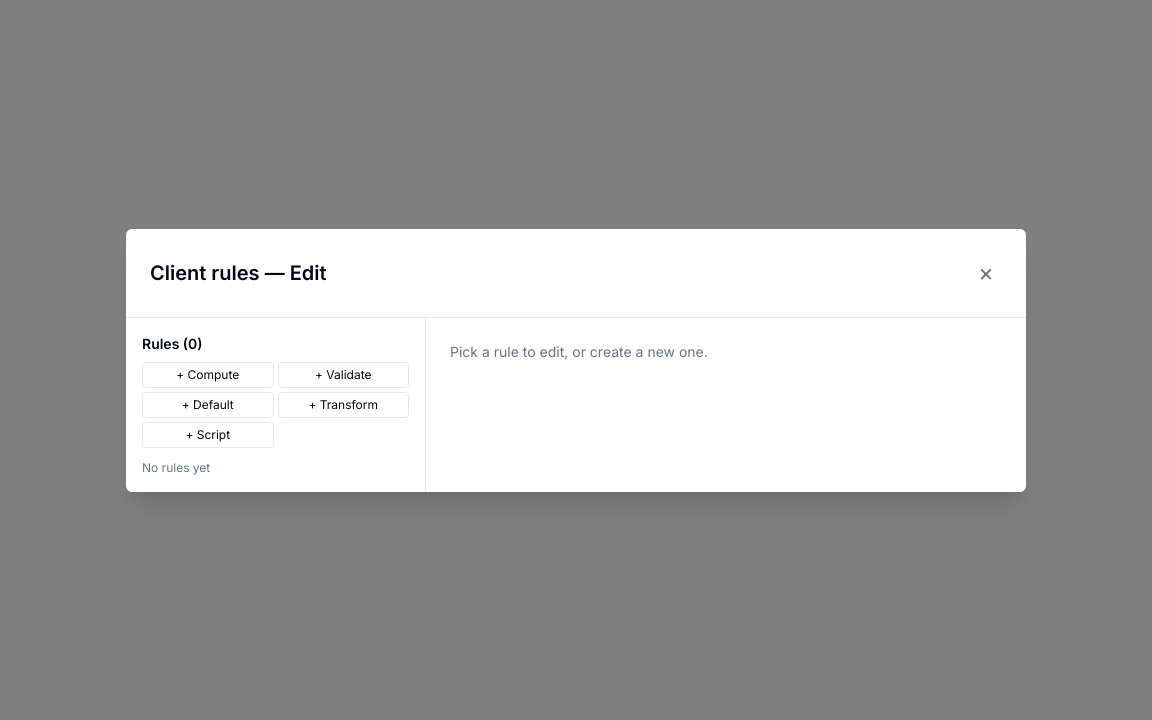
it: RulesEditor › save is disabled until required fields are filled
Click the button with test id "rules-editor-add-compute": point(208, 374) [142,362,274,388]
(page scrolled)
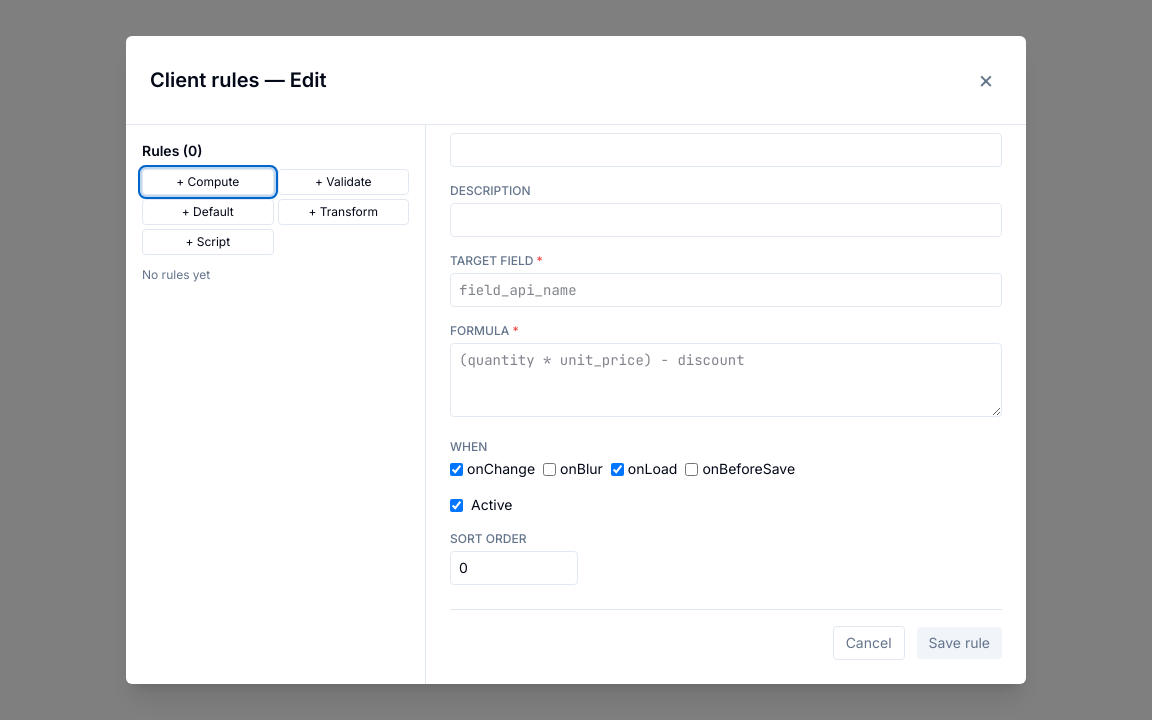
Check: the button with test id "rules-editor-save" is disabled, box [917,627,1002,659]
